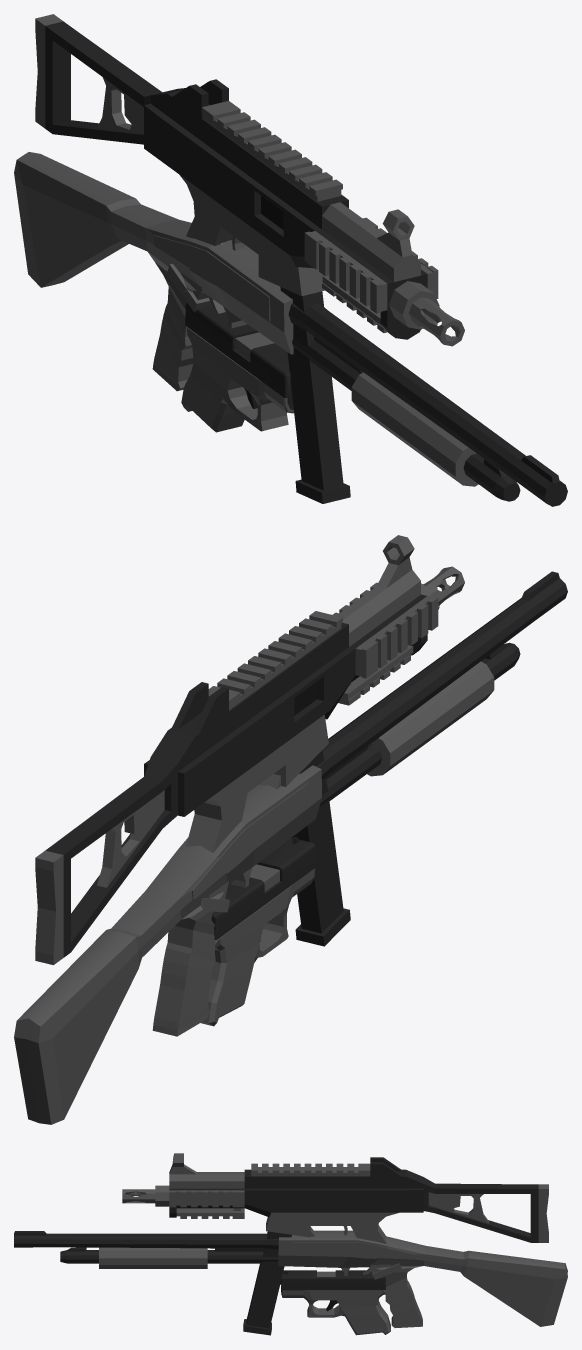
The model's file is Gun.fbx.
3 views of the same model, one above another, from view 1: azimuth 30°, elevation 25°; view 2: azimuth 150°, elevation 25°; view 3: azimuth 270°, elevation 25° (orthographic). The views are drawn at different scales.
Visible parts, largest first — view 1: UMP, Shotgun, Pistol; view 2: UMP, Shotgun, Pistol; view 3: UMP, Shotgun, Pistol.
Boxes of the visible parts, left/top/right/bottom form: UMP: left=35, top=14, right=464, bottom=503; Shotgun: left=14, top=152, right=567, bottom=506; Pistol: left=181, top=302, right=294, bottom=432; UMP: left=35, top=535, right=464, bottom=965; Shotgun: left=14, top=571, right=567, bottom=1124; Pistol: left=201, top=837, right=315, bottom=1026; UMP: left=122, top=1153, right=548, bottom=1335; Shotgun: left=14, top=1230, right=567, bottom=1327; Pistol: left=280, top=1270, right=390, bottom=1335.
Size of the model in its own units: 0.121 by 0.6342 by 1.8.
Materials: 1 (1 with a texture image).
